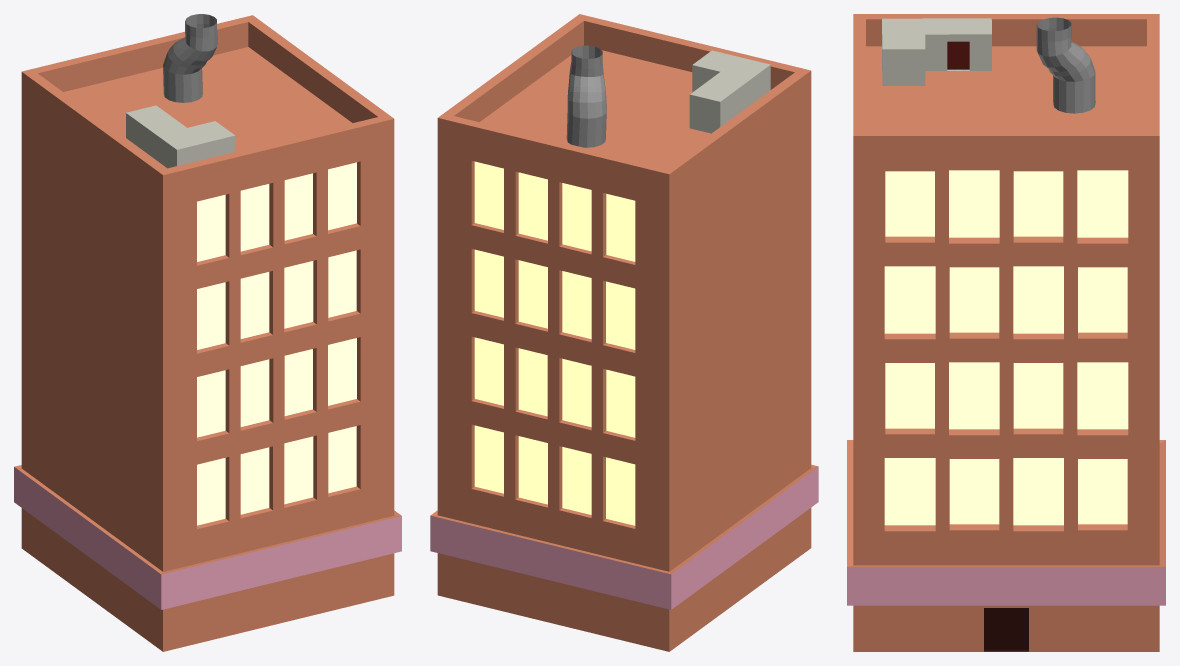
The model's file is Back_Building_3.fbx.
3 views of the same model, side by side, from view 1: azimuth 30°, elevation 25°; view 2: azimuth 150°, elevation 25°; view 3: azimuth 270°, elevation 25° (orthographic). The views are drawn at different scales.
Visible parts, largest first — view 1: Cube.001; view 2: Cube.001; view 3: Cube.001.
Boxes of the visible parts, bbox=[...] form: Cube.001: bbox=[14, 14, 401, 651]; Cube.001: bbox=[430, 14, 818, 651]; Cube.001: bbox=[847, 14, 1165, 651].
Bounding box in the file's own units: 363 × 767 × 385.
